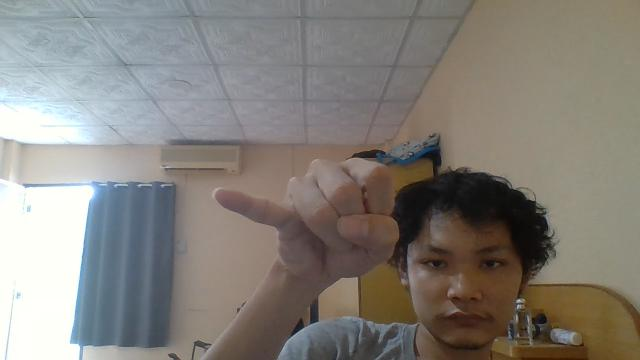Right: (210, 159, 402, 291)
